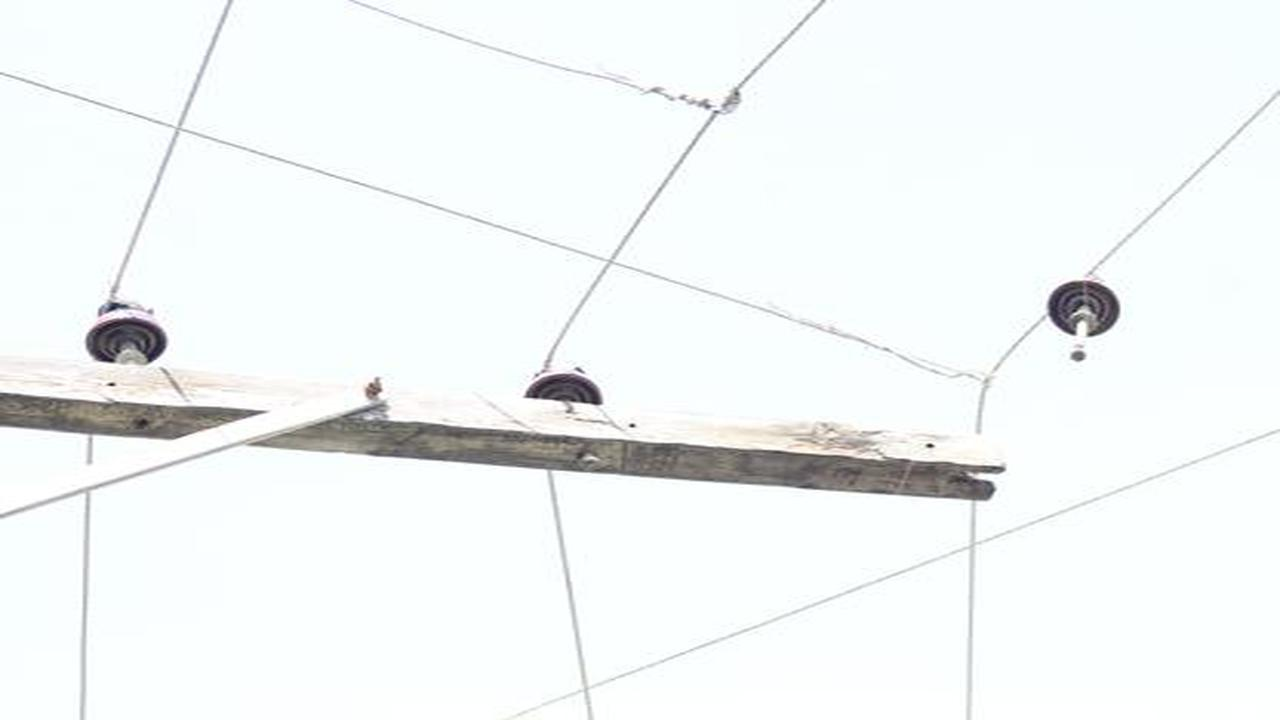insulator_pin: (80, 300, 169, 364), (1044, 269, 1120, 337), (516, 357, 602, 405)
